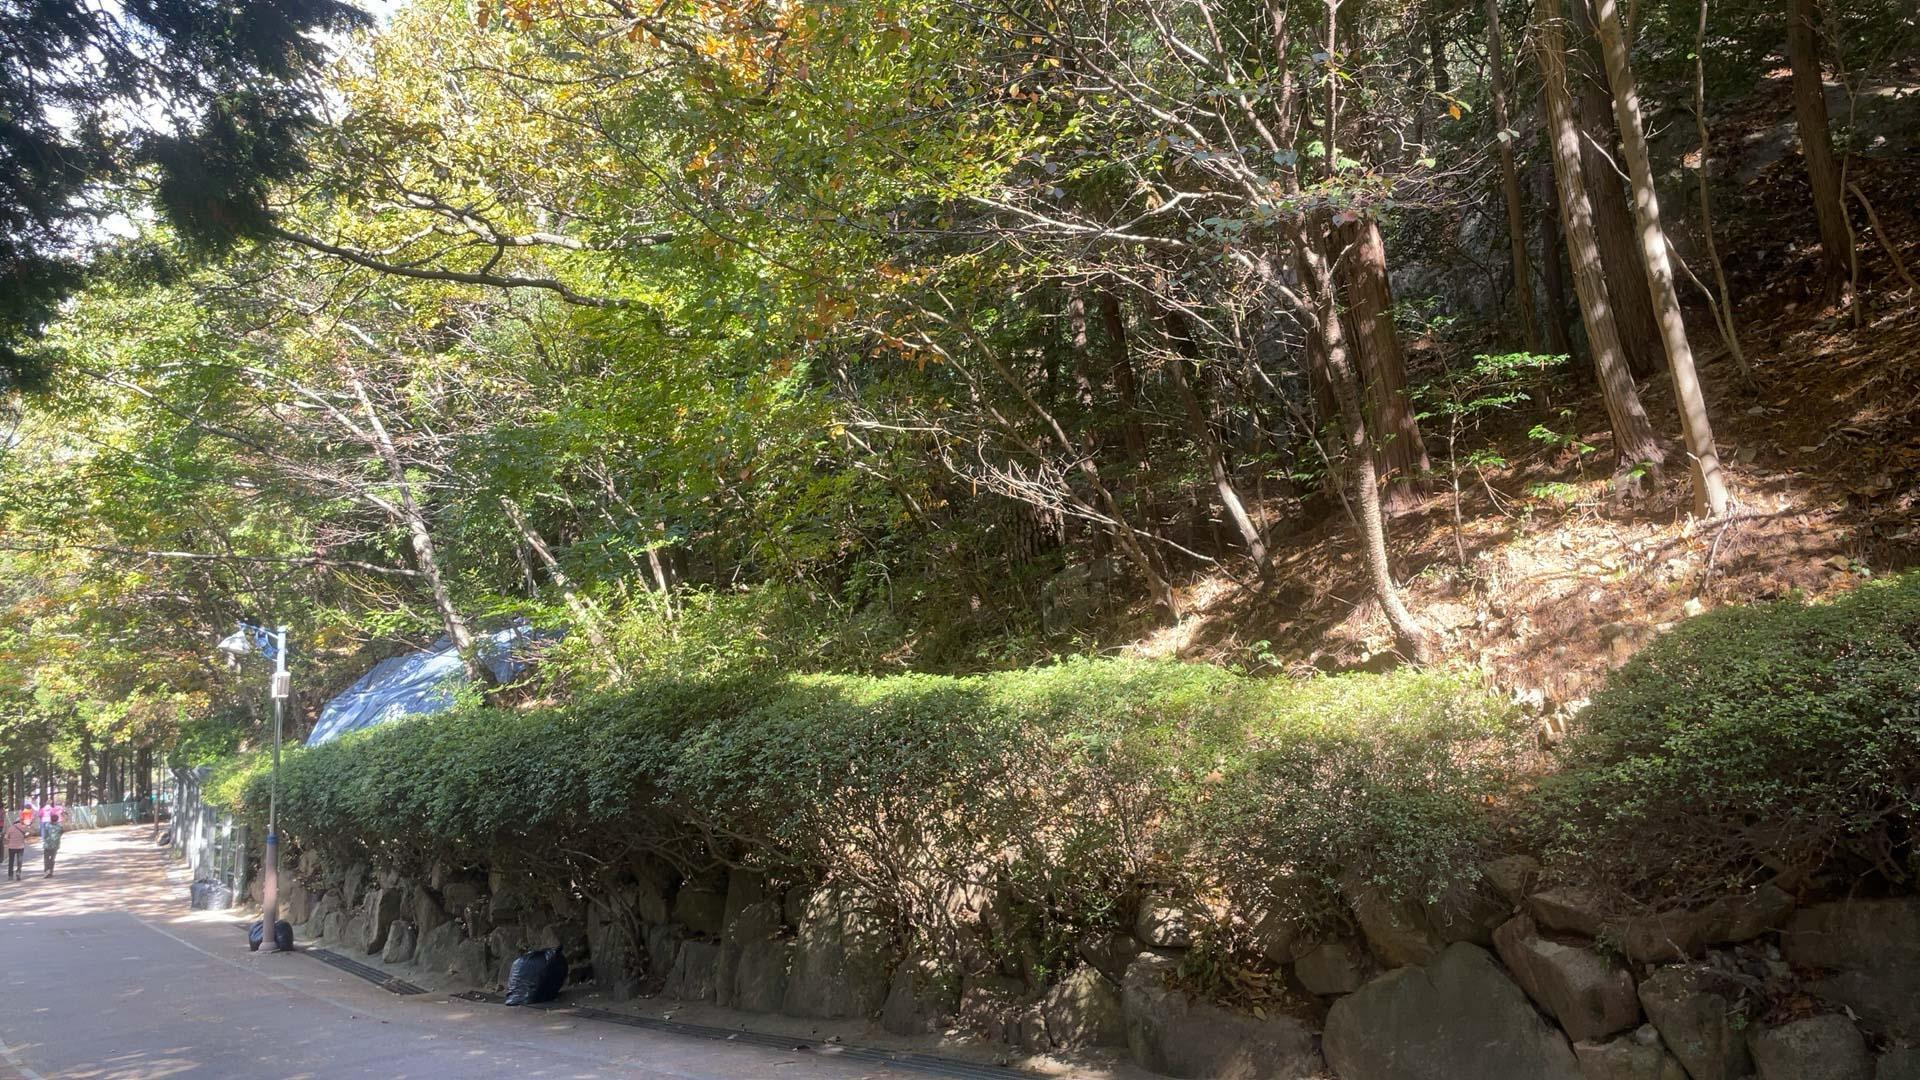black_bag: (498, 942, 568, 1009), (243, 916, 295, 952), (187, 876, 222, 909), (199, 881, 232, 910)
